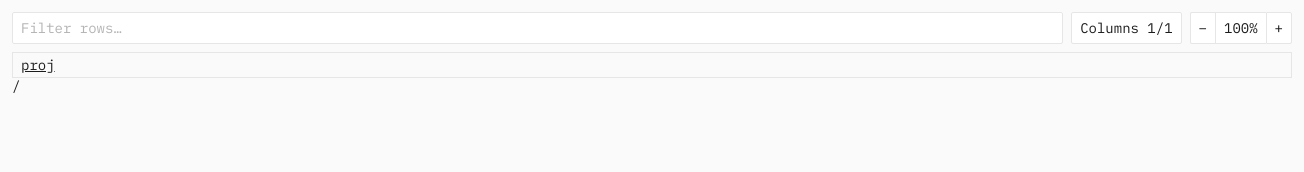
Scenario: TableView › clicking a table_ref cell drills into it (URL changes)
Click the link "proj": (38, 65) [21,56,55,74]
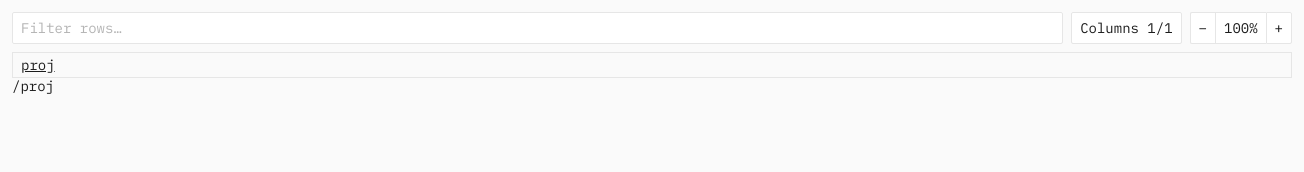
Expected: the text with test id "loc" reads "/proj", [12,77,54,95]
